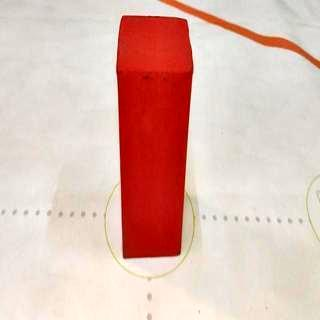redbox: (114, 14, 194, 257)
